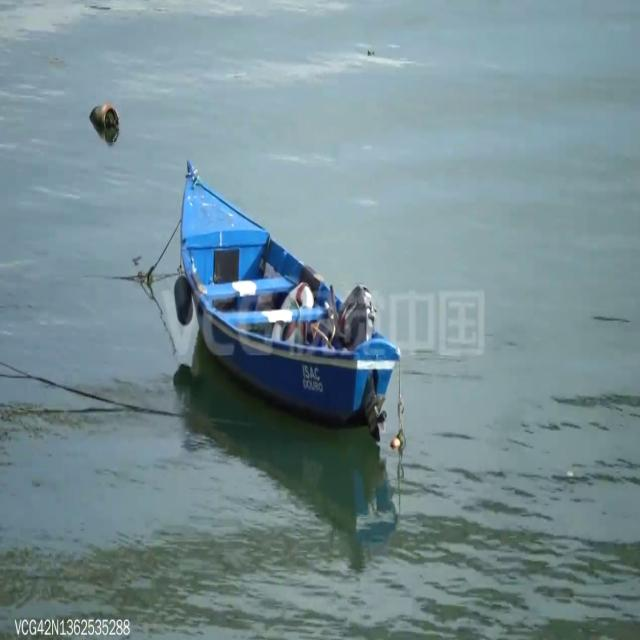fishing boat: (176, 151, 397, 427)
